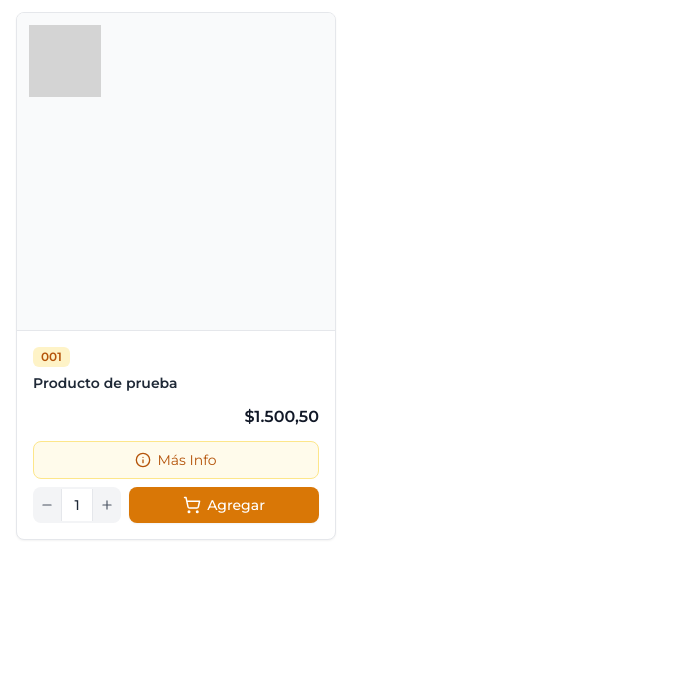
Test: ProductCard › agregar al carrito › debería mostrar toast después de agregar
Click the button titled "Agregar al carrito" at (224, 505), box left=129, top=487, right=319, bottom=523
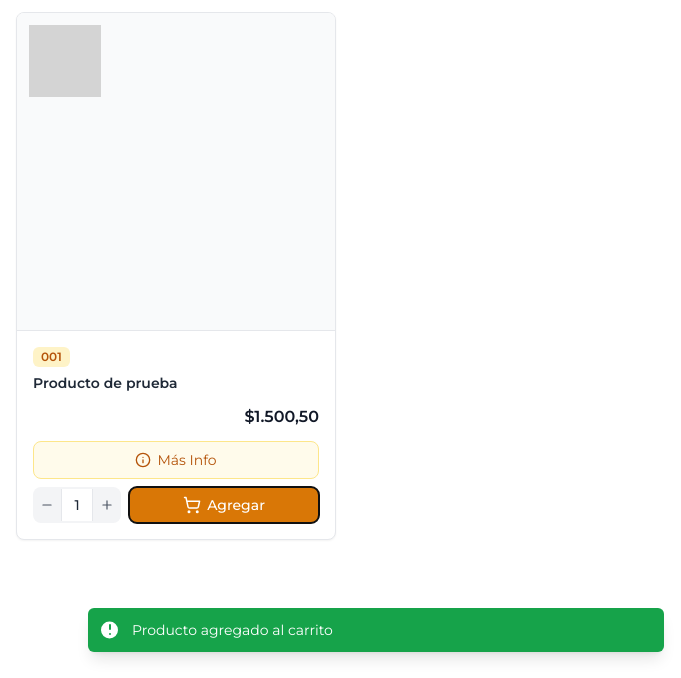
Now the text "Producto agregado al carrito" is shown, box left=132, top=620, right=333, bottom=640
